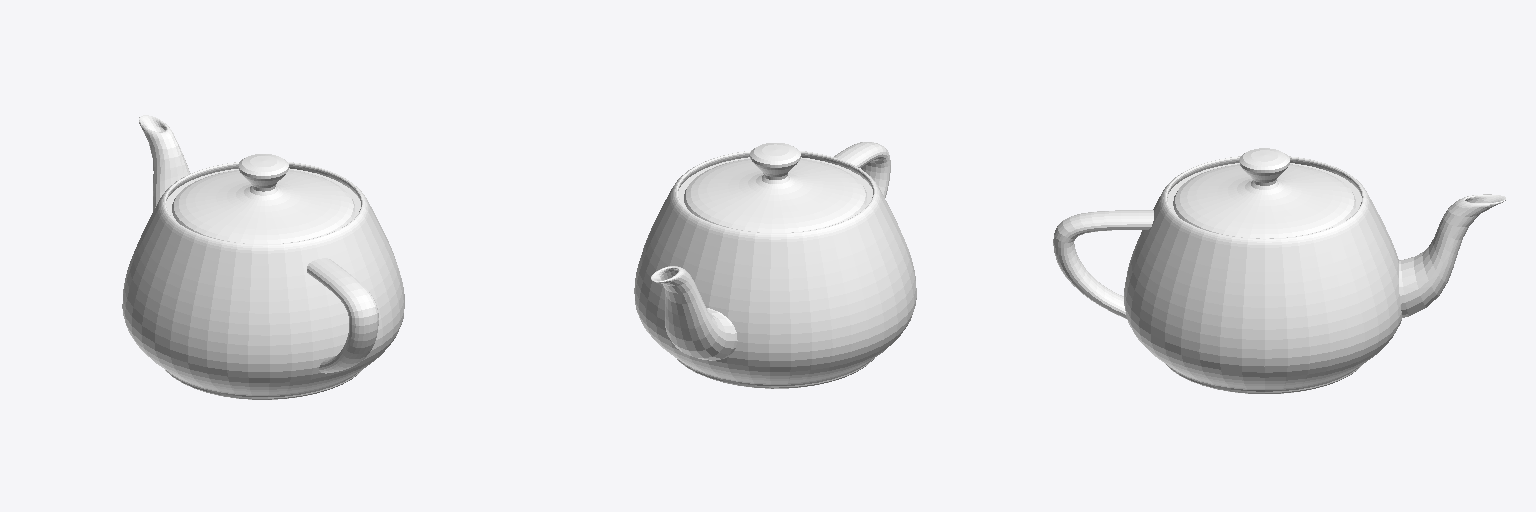
Rendered from teapot.obj.
The picture shows the model from 3 angles: view 1: azimuth 30°, elevation 25°; view 2: azimuth 150°, elevation 25°; view 3: azimuth 270°, elevation 25°; orthographic projection.
Parts seen in each view (by area): view 1: teapot; view 2: teapot; view 3: teapot.
Boxes of the visible parts, x1,y1,x2,y2 form: teapot: [122, 115, 404, 399]; teapot: [634, 142, 916, 388]; teapot: [1053, 148, 1506, 393].
Size of the model in its own units: 4 by 3.15 by 6.43.